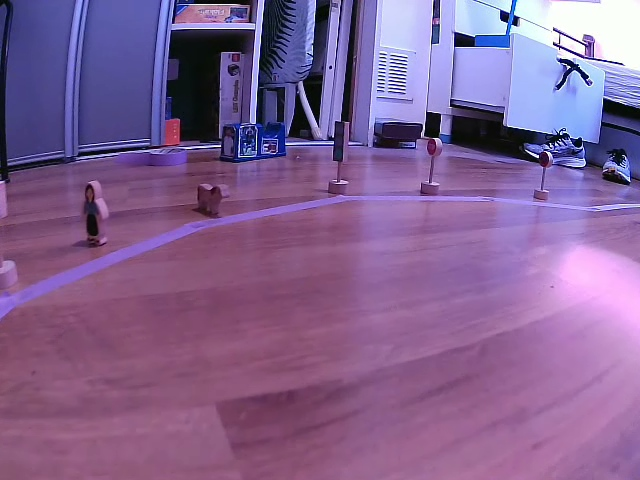mens: (81, 179, 109, 247)
paard: (195, 182, 229, 215)
